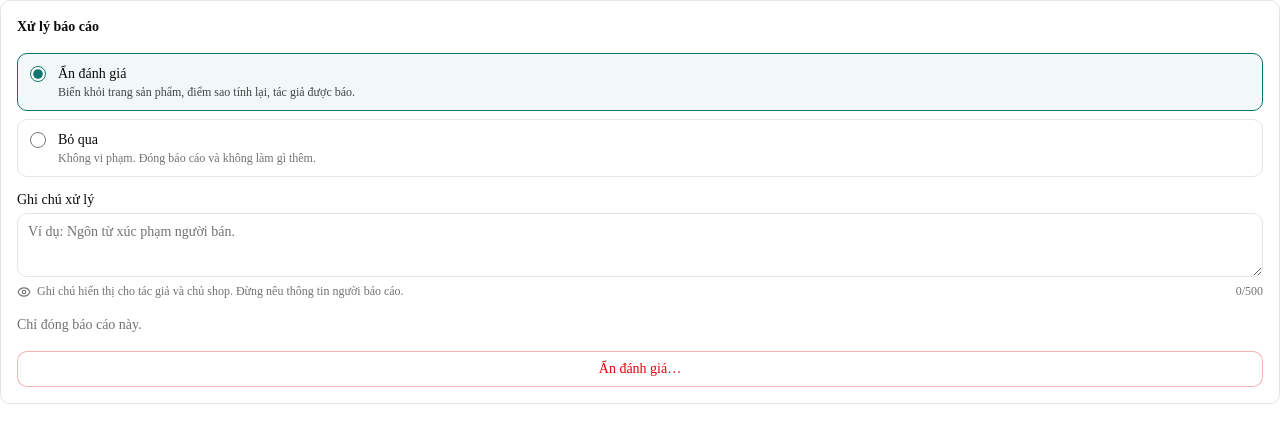
Scenario: AdminReportActionPanel — các hành động theo loại › lựa chọn đầu tiên được chọn sẵn; chọn cái khác thì chỉ cái đó được chọn
expect the radio button labelled "Ẩn đánh giá" is checked: met, box [30,66,46,82]
Click the radio button labelled "Bỏ qua Không vi phạm. Đóng báo cáo và không làm gì thêm." at [38, 140], box [30,132,46,148]
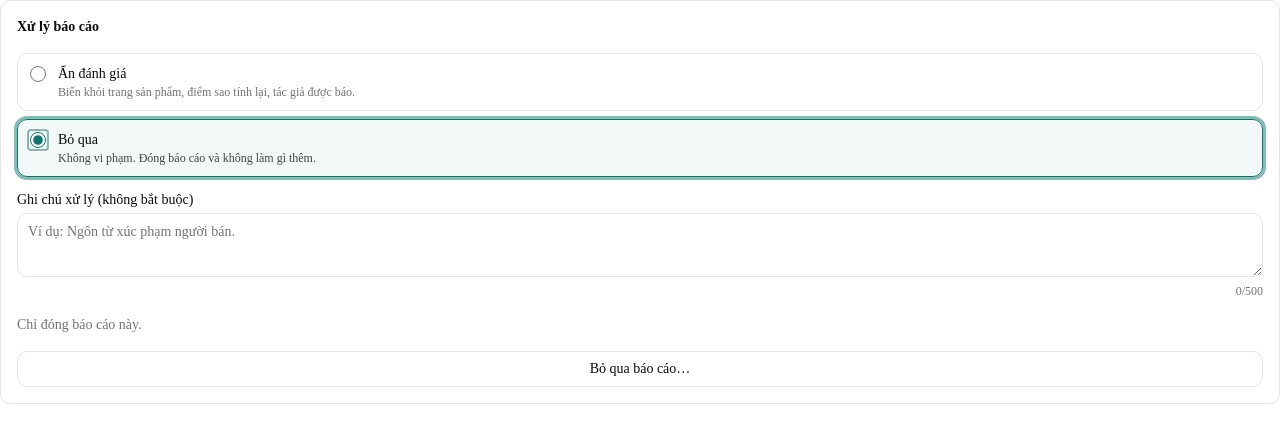
expect the radio button labelled "Bỏ qua Không vi phạm. Đóng báo cáo và không làm gì thêm." is checked: met, box [30,132,46,148]
expect the radio button labelled "Ẩn đánh giá" is not checked: met, box [30,66,46,82]
